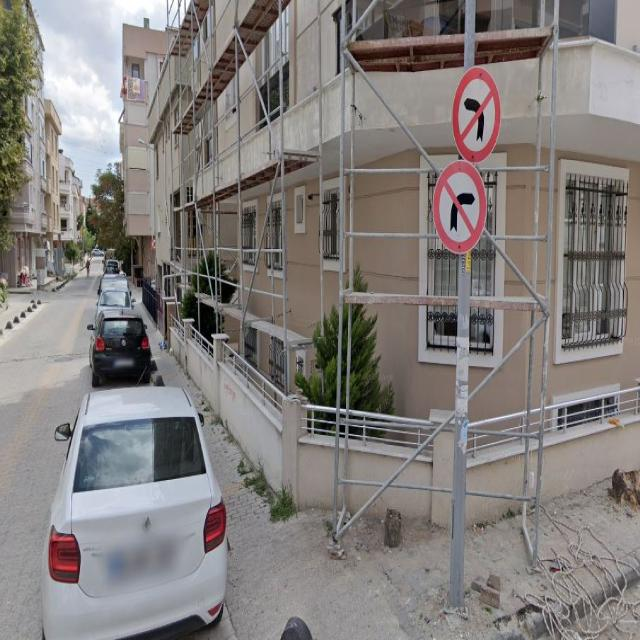sagadonulmez: (433, 161, 486, 256)
soladonulmez: (452, 67, 501, 161)
